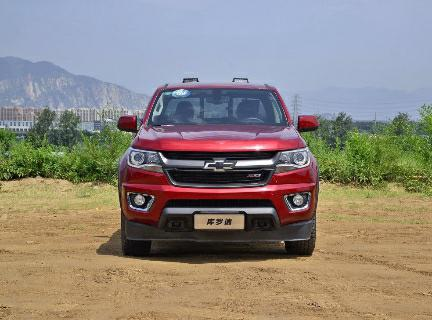雪佛兰-库罗德: (110, 74, 328, 258)
